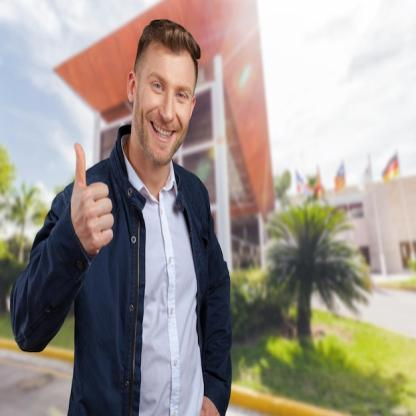thumb_up: (68, 142, 115, 258)
